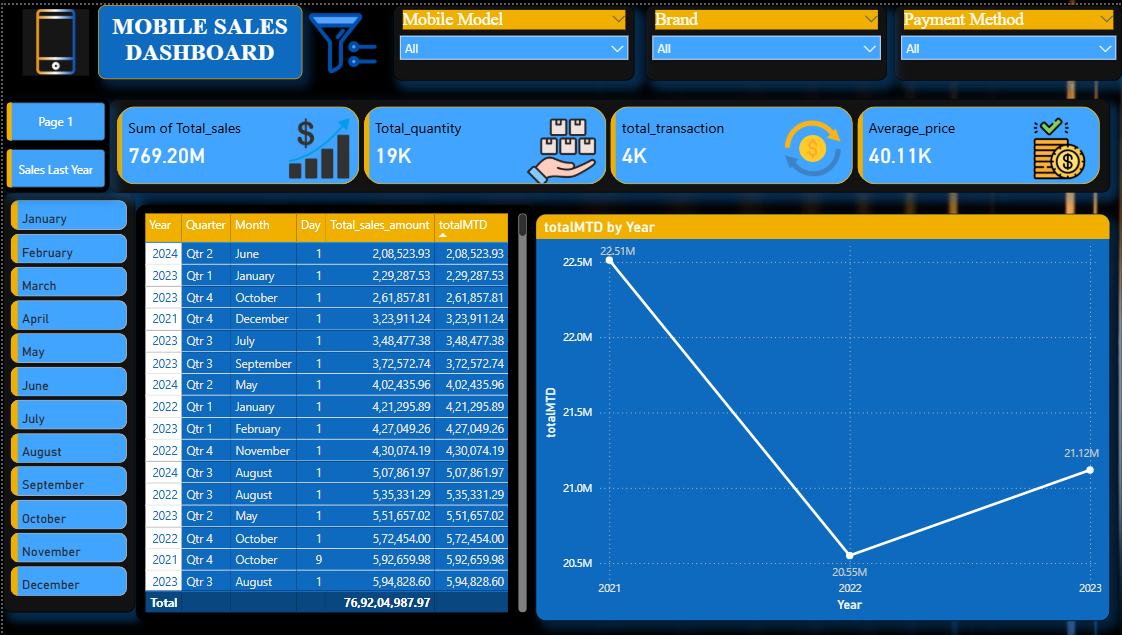

What the dashboard file says about the page in this screenshot:
{"tool":"powerbi","page":{"name":"MTD","canvas":[1280,720],"ordinal":1},"visuals":[{"type":"advancedSlicerVisual","fields":{"Values":["Custom Calendar.Date_calendar.Variation.Date Hierarchy.Month"]},"box":[0,214.3,151.4,480],"z":0},{"type":"cardVisual","fields":{"Data":["Sum(Sheet1.Total_sales)","Sheet1.Total_quantity","Sheet1.total_transaction","Sheet1.Average_price"]},"box":[121.4,107.1,1144.3,107.1],"z":1000},{"type":"image","box":[0,0,121.4,85.7],"z":2000},{"type":"slicer","fields":{"Values":["Sheet1.Payment Method"]},"box":[1018.8,0,261.2,86.2],"z":3000},{"type":"slicer","fields":{"Values":["Sheet1.Brand"]},"box":[733.8,0,276.2,86.2],"z":4000},{"type":"slicer","fields":{"Values":["Sheet1.Mobile Model"]},"box":[446.2,0,276.2,86.2],"z":5000},{"type":"image","box":[341.2,0,93.8,87.5],"z":6000},{"type":"textbox","box":[121.2,0,220,86.2],"z":7000},{"type":"tableEx","fields":{"Values":["Custom Calendar.Date_calendar.Variation.Date Hierarchy.Year","Custom Calendar.Date_calendar.Variation.Date Hierarchy.Quarter","Custom Calendar.Date_calendar.Variation.Date Hierarchy.Month","Custom Calendar.Date_calendar.Variation.Date Hierarchy.Day","Sheet1.Total_sales_amount","Sheet1.totalMTD"]},"box":[151.4,228.6,457.1,475.7],"z":8000},{"type":"lineChart","fields":{"Category":["Custom Calendar.Date_calendar.Variation.Date Hierarchy.Year","Custom Calendar.Date_calendar.Variation.Date Hierarchy.Quarter","Custom Calendar.Date_calendar.Variation.Date Hierarchy.Month","Custom Calendar.Date_calendar.Variation.Date Hierarchy.Day"],"Y":["Sheet1.totalMTD"]},"box":[608.6,238.6,657.1,465.7],"z":9000},{"type":"pageNavigator","box":[0,107.1,121.4,107.1],"z":9001}]}

Visuals, with their boxes in screenshot pixels (x1, y1, x2, y2), scaled from the page's 1280x720 canvas onto the 1122x635 screenshot:
advancedSlicerVisual - Custom Calendar.Date_calendar.Variation.Date Hierarchy.Month: 0, 189, 133, 612
cardVisual - Sum(Sheet1.Total_sales) x Sheet1.Total_quantity: 106, 94, 1109, 189
image: 0, 0, 106, 76
slicer - Sheet1.Payment Method: 893, 0, 1121, 76
slicer - Sheet1.Brand: 643, 0, 885, 76
slicer - Sheet1.Mobile Model: 391, 0, 633, 76
image: 299, 0, 381, 77
textbox: 106, 0, 299, 76
tableEx - Custom Calendar.Date_calendar.Variation.Date Hierarchy.Year x Custom Calendar.Date_calendar.Variation.Date Hierarchy.Quarter: 133, 202, 533, 621
lineChart - Custom Calendar.Date_calendar.Variation.Date Hierarchy.Year x Custom Calendar.Date_calendar.Variation.Date Hierarchy.Quarter: 533, 210, 1109, 621
pageNavigator: 0, 94, 106, 189
